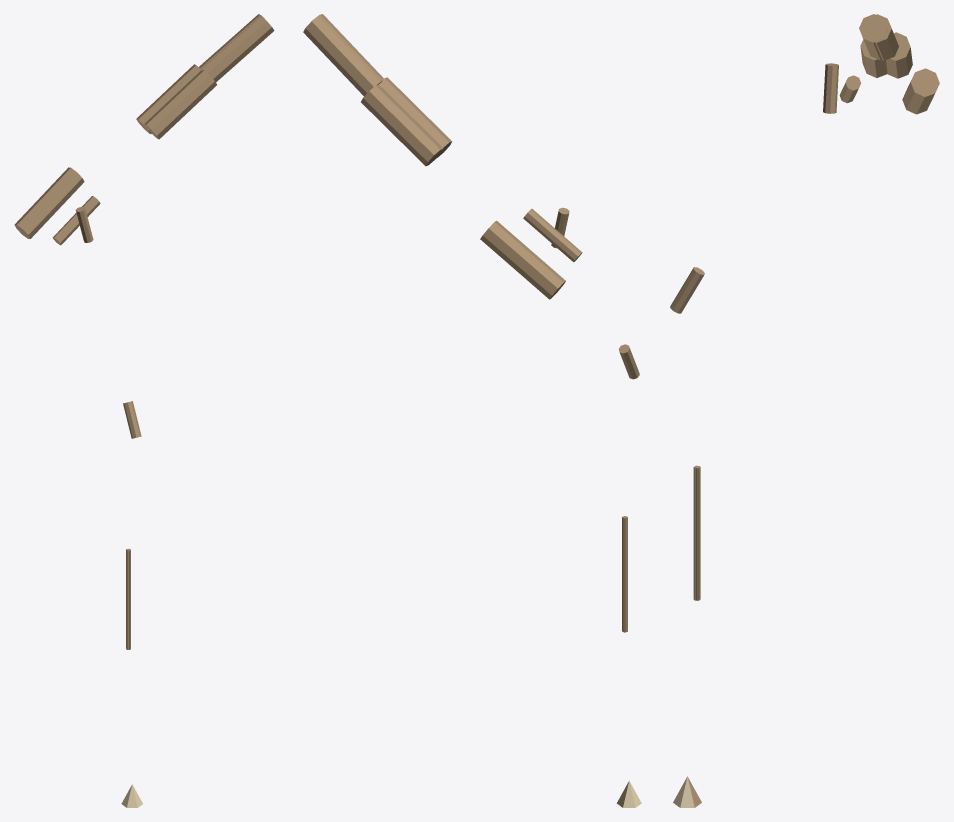
Rendered from stick_3.glb.
The picture shows the model from 3 angles, left to right: view 1: azimuth 30°, elevation 25°; view 2: azimuth 150°, elevation 25°; view 3: azimuth 270°, elevation 25°; orthographic projection. The views are drawn at different scales.
Parts seen in each view (by area): view 1: WoodenStick; view 2: WoodenStick; view 3: WoodenStick.
Part boxes in pixels (x1,y1,x2,y2): WoodenStick: (14,14,274,807); WoodenStick: (303,14,641,807); WoodenStick: (670,14,939,807).
Bounding box in the file's own units: 0.3784 × 1.04 × 0.2769.
